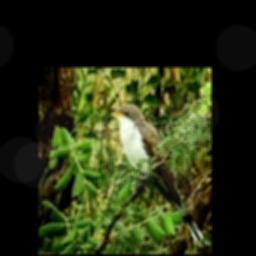Cuckoo: (107, 104, 203, 241)
